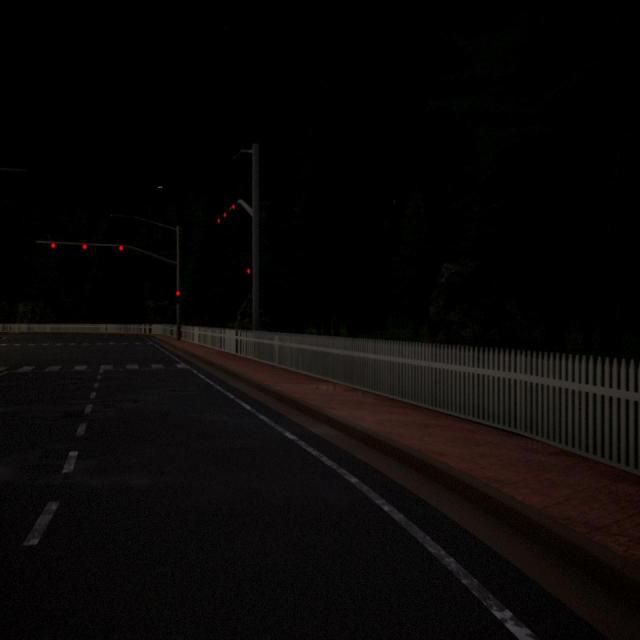traffic_light: (176, 290, 180, 304), (50, 242, 56, 249), (118, 245, 124, 251), (82, 243, 87, 250), (247, 268, 250, 275), (232, 204, 235, 210), (223, 212, 226, 218), (217, 218, 220, 224)
